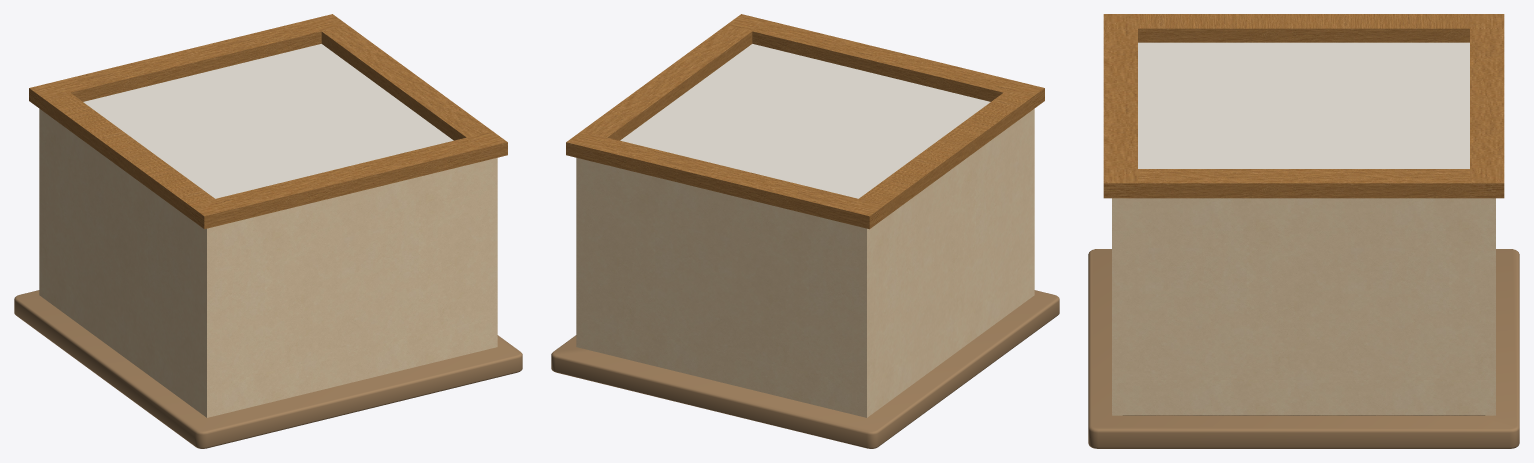
Rendered from virtualroom_empty.glb.
The picture shows the model from 3 angles, left to right: view 1: azimuth 30°, elevation 25°; view 2: azimuth 150°, elevation 25°; view 3: azimuth 270°, elevation 25°; orthographic projection. The views are drawn at different scales.
Parts seen in each view (by area): view 1: Shell_Wall_zmax, Shell_Ceiling, Shell_Wall_xmin, Shell_FloorEdge, Shell_Band_xmin, Shell_Trim_zmax, Shell_Trim_zmin, Shell_Trim_xmin, Shell_Trim_xmax, Shell_Wall_xmax, Shell_Trim_xmin_zmax, Shell_Trim_xmax_zmax (+1 smaller); view 2: Shell_Wall_zmin, Shell_Ceiling, Shell_Wall_xmin, Shell_Band_zmin, Shell_FloorEdge, Shell_Trim_zmin, Shell_Trim_zmax, Shell_Trim_xmin, Shell_Trim_xmax, Shell_Band_xmin, Shell_Wall_xmax, Shell_Trim_xmin_zmin (+2 smaller); view 3: Shell_Wall_xmax, Shell_Ceiling, Shell_Band_xmax, Shell_FloorEdge, Shell_Trim_xmax, Shell_Trim_xmin, Shell_Trim_zmin, Shell_Trim_zmax, Shell_Trim_xmax_zmin, Shell_Trim_xmax_zmax, Shell_Trim_xmin_zmin, Shell_Trim_xmin_zmax.
Boxes of the visible parts, bbox=[...] form: Shell_Wall_zmax: bbox=[214, 159, 490, 415]; Shell_Ceiling: bbox=[83, 44, 453, 198]; Shell_Wall_xmin: bbox=[39, 109, 214, 417]; Shell_FloorEdge: bbox=[14, 290, 522, 448]; Shell_Band_xmin: bbox=[61, 154, 184, 329]; Shell_Trim_zmax: bbox=[216, 137, 481, 222]; Shell_Trim_zmin: bbox=[55, 20, 321, 101]; Shell_Trim_xmin: bbox=[44, 92, 214, 217]; Shell_Trim_xmax: bbox=[321, 25, 492, 140]; Shell_Wall_xmax: bbox=[490, 158, 497, 348]; Shell_Trim_xmin_zmax: bbox=[189, 199, 230, 229]; Shell_Trim_xmax_zmax: bbox=[467, 131, 507, 161]; Shell_Wall_zmin: bbox=[583, 159, 859, 415]; Shell_Ceiling: bbox=[620, 44, 990, 198]; Shell_Wall_xmin: bbox=[859, 109, 1034, 417]; Shell_Band_zmin: bbox=[614, 190, 828, 338]; Shell_FloorEdge: bbox=[551, 290, 1059, 448]; Shell_Trim_zmin: bbox=[592, 137, 857, 222]; Shell_Trim_zmax: bbox=[752, 20, 1018, 101]; Shell_Trim_xmin: bbox=[859, 92, 1029, 217]; Shell_Trim_xmax: bbox=[581, 25, 752, 140]; Shell_Band_xmin: bbox=[889, 146, 1012, 325]; Shell_Wall_xmax: bbox=[576, 158, 583, 348]; Shell_Trim_xmin_zmin: bbox=[843, 199, 884, 229]; Shell_Wall_xmax: bbox=[1112, 198, 1495, 415]; Shell_Ceiling: bbox=[1138, 42, 1469, 168]; Shell_Band_xmax: bbox=[1162, 225, 1445, 335]; Shell_FloorEdge: bbox=[1088, 249, 1519, 448]; Shell_Trim_xmax: bbox=[1138, 169, 1469, 198]; Shell_Trim_xmin: bbox=[1138, 14, 1469, 42]; Shell_Trim_zmin: bbox=[1470, 28, 1504, 168]; Shell_Trim_zmax: bbox=[1103, 28, 1137, 168]; Shell_Trim_xmax_zmin: bbox=[1470, 169, 1504, 198]; Shell_Trim_xmax_zmax: bbox=[1103, 169, 1137, 198]; Shell_Trim_xmin_zmin: bbox=[1470, 14, 1504, 28]; Shell_Trim_xmin_zmax: bbox=[1103, 14, 1137, 28].
Bounding box in the file's own units: 5.32 × 3.54 × 5.32.
15 materials, 13 textured.
